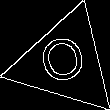O_S: (38, 33, 92, 92)
